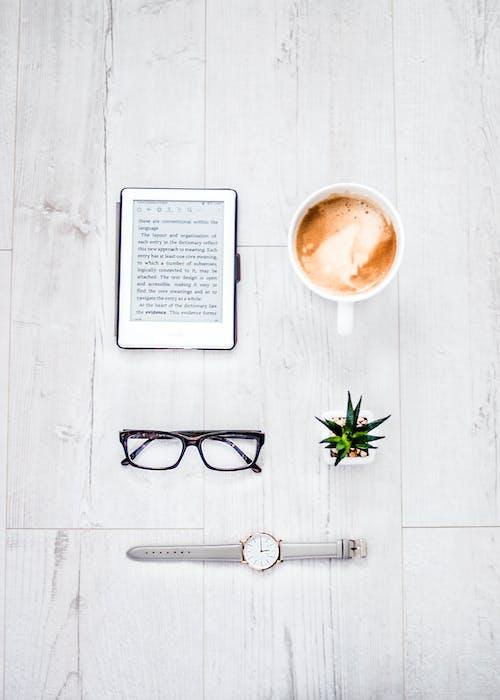eyeglasses: (95, 397, 283, 495)
